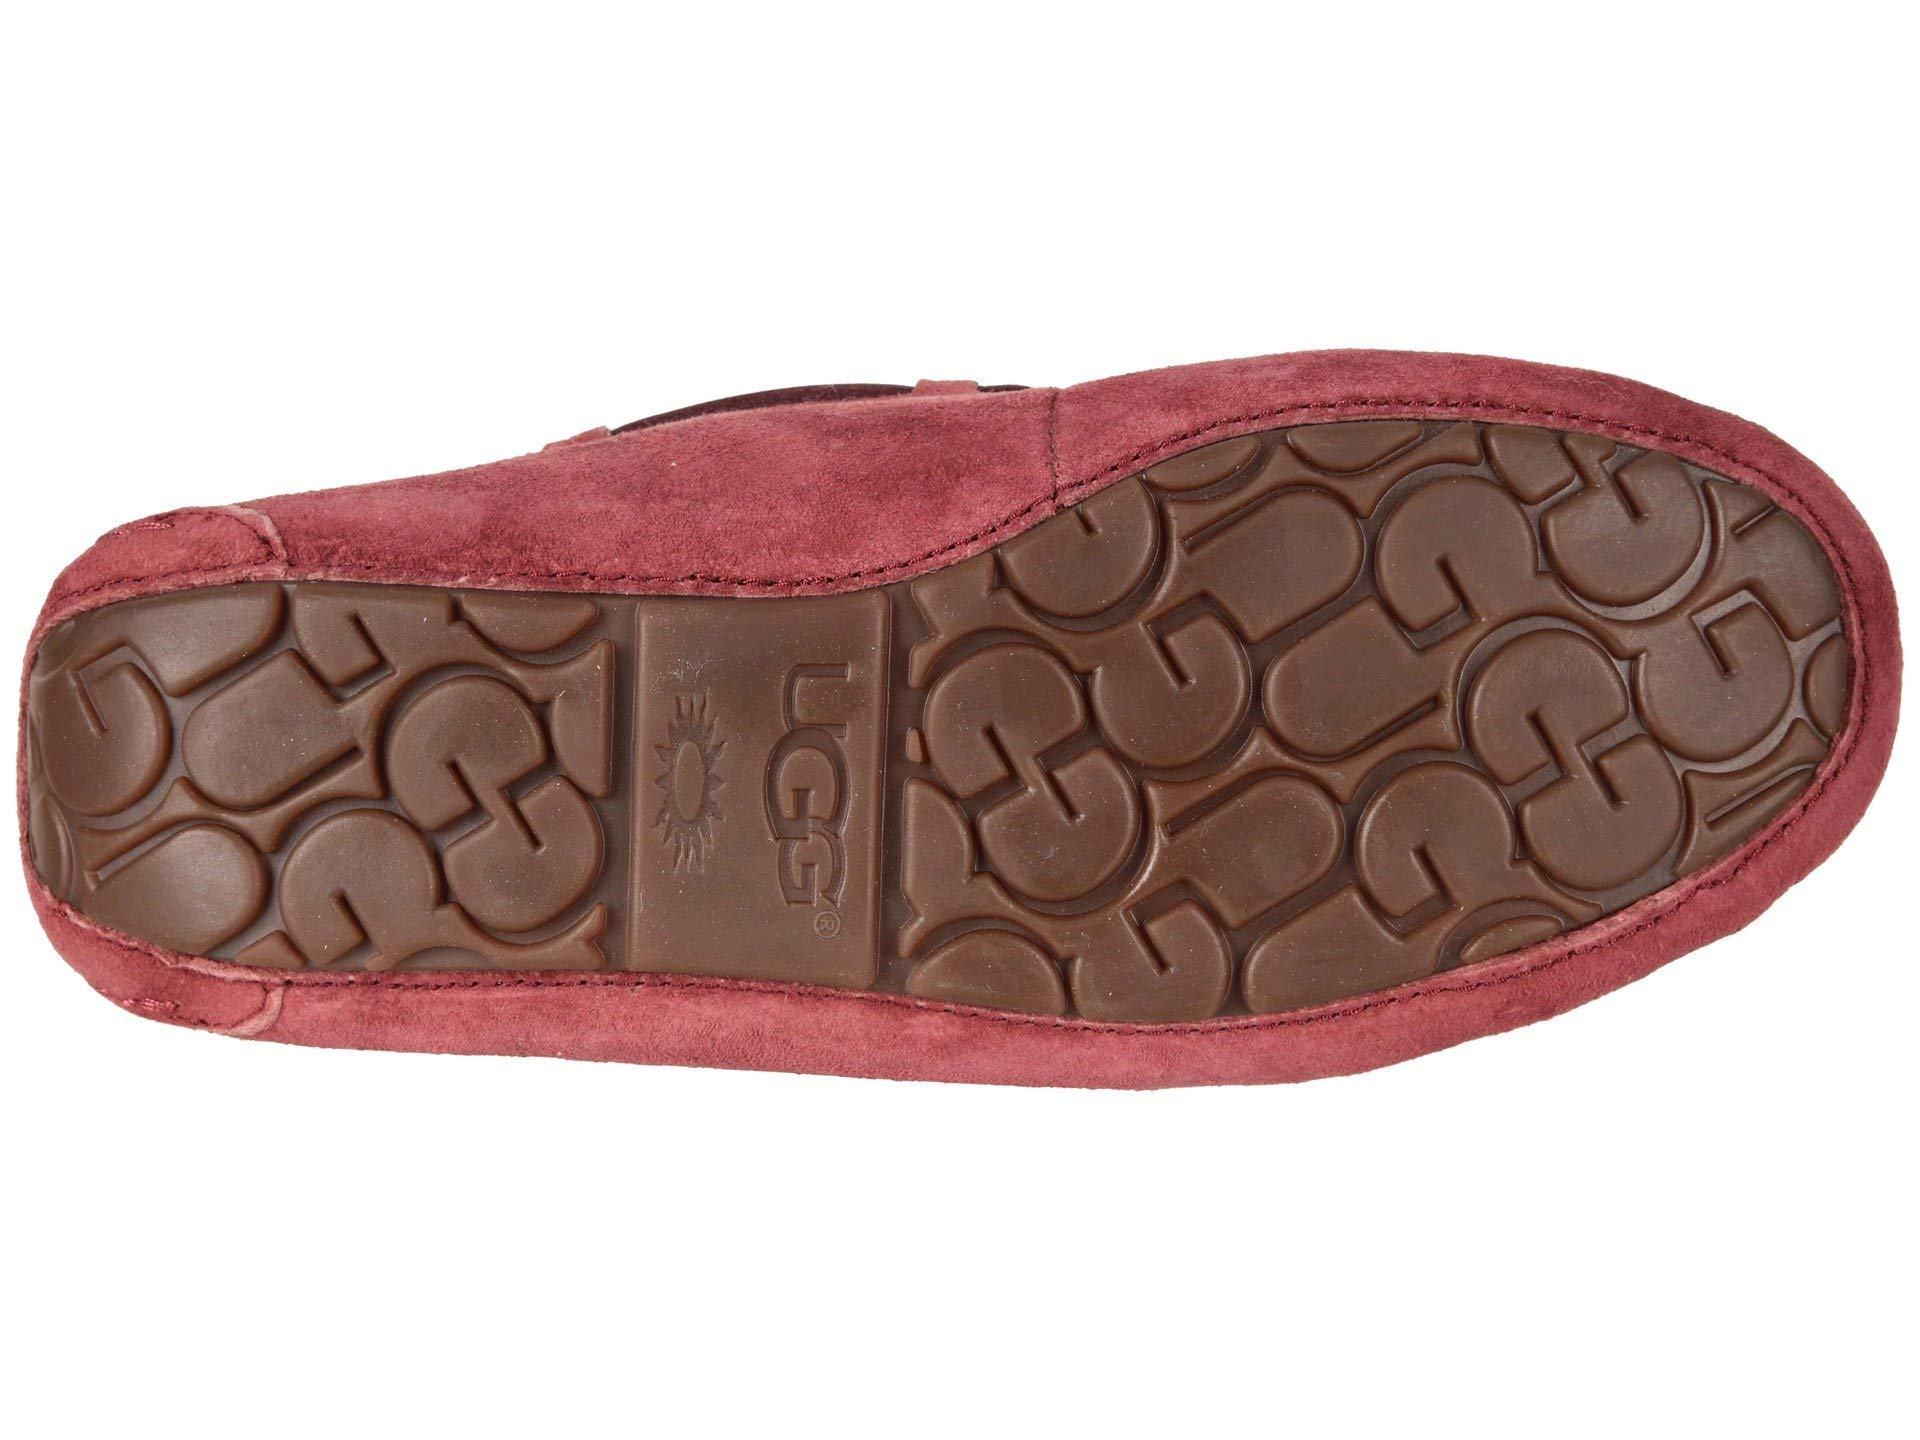circle: (591, 629, 937, 927)
text: (993, 519, 1483, 974), (159, 623, 514, 976), (1495, 502, 1831, 838), (591, 629, 937, 927)
